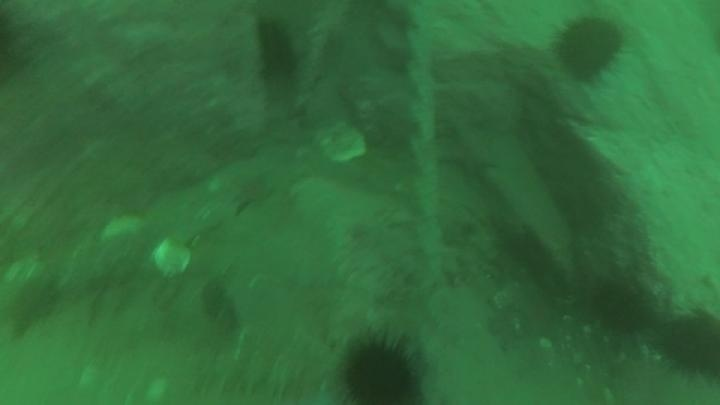echinus: (338, 334, 424, 405), (551, 15, 627, 84), (657, 308, 720, 381), (586, 277, 652, 337), (254, 19, 300, 82)
holothurian: (208, 344, 334, 403)
starfish: (435, 123, 498, 182), (225, 170, 277, 217)
